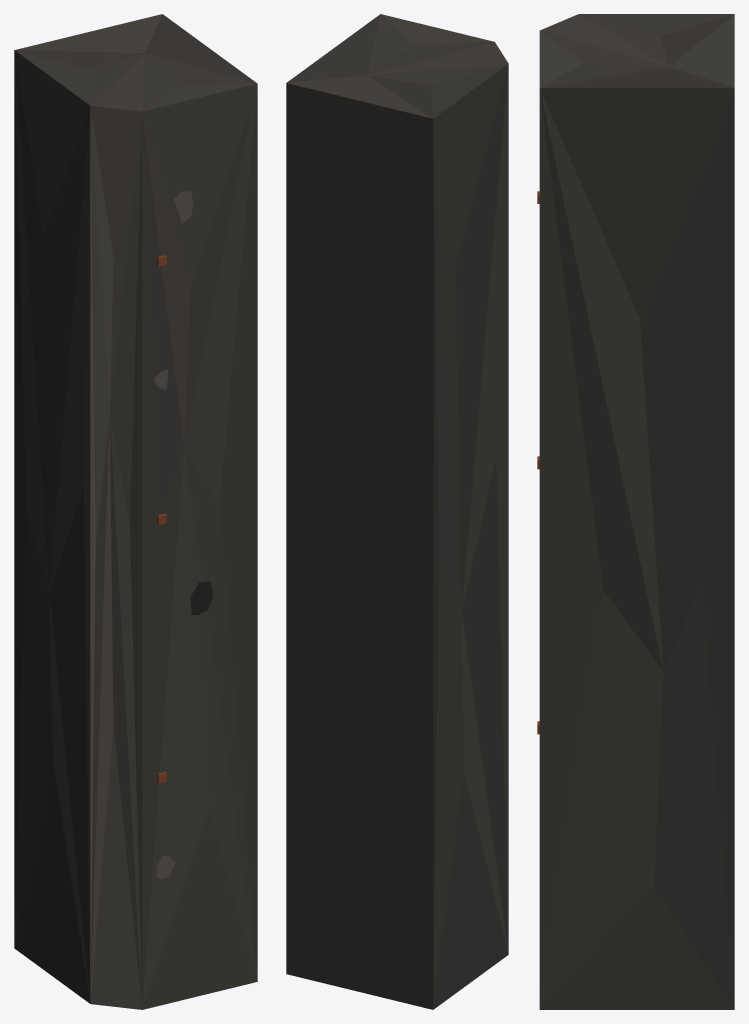
The model's file is shelter_living_concrete_normal_left.glb.
The picture shows the model from 3 angles, left to right: view 1: azimuth 30°, elevation 25°; view 2: azimuth 150°, elevation 25°; view 3: azimuth 270°, elevation 25°; orthographic projection. The views are drawn at different scales.
Visible parts, largest first — view 1: shelter_living_concrete_normal_left; view 2: shelter_living_concrete_normal_left; view 3: shelter_living_concrete_normal_left.
Part boxes in pixels (box(x1,y1,x2,y2)): shelter_living_concrete_normal_left: box(14, 14, 257, 1009); shelter_living_concrete_normal_left: box(286, 14, 508, 1009); shelter_living_concrete_normal_left: box(537, 14, 734, 1009).
Size of the model in its own units: 0.54 by 3.13 by 0.608.
Materials: 1 (1 with a texture image).
